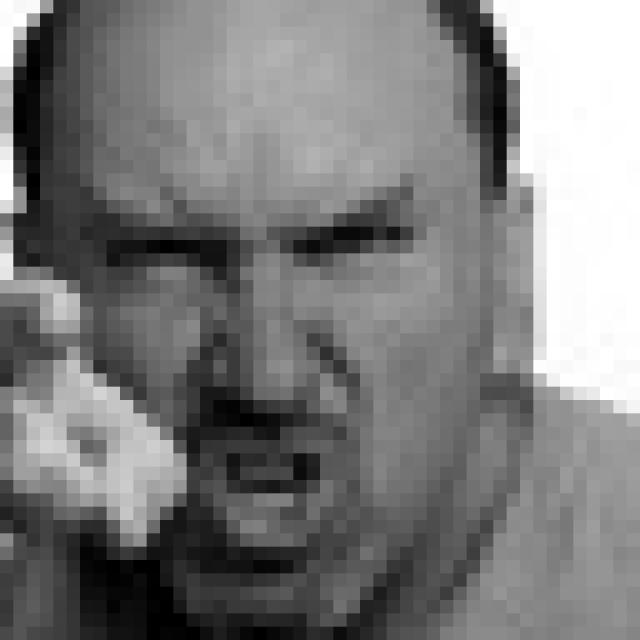angry: (89, 175, 426, 558)
